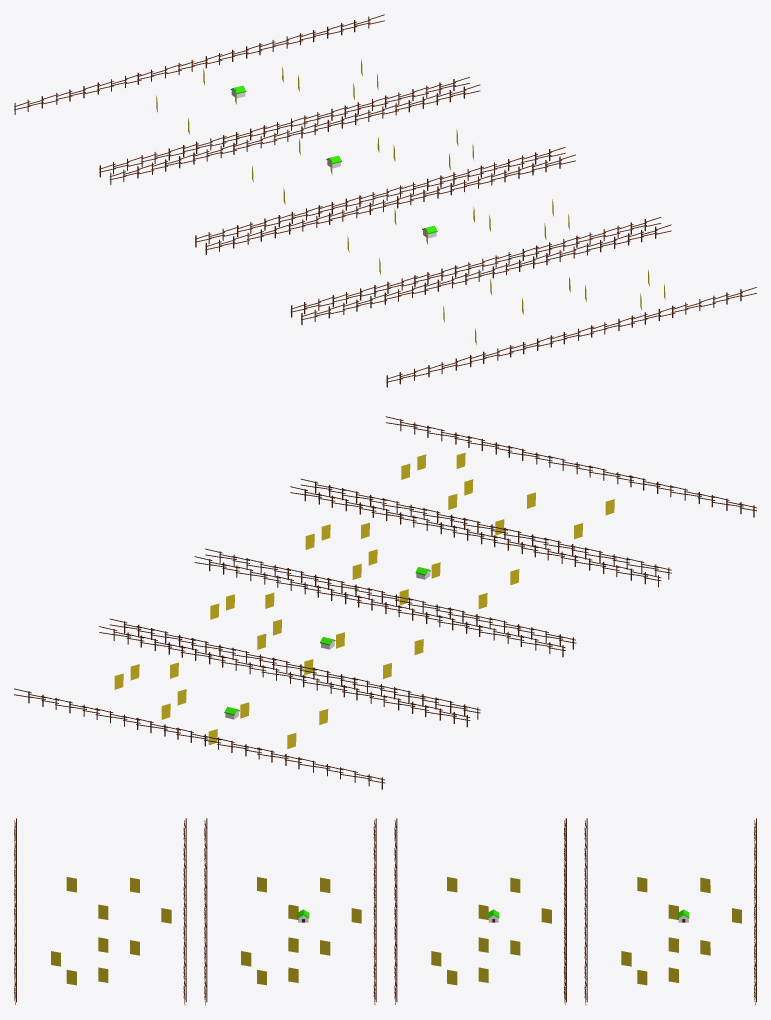
Rendered from farm07.glb.
3 views of the same model, one above another, from view 1: azimuth 30°, elevation 25°; view 2: azimuth 150°, elevation 25°; view 3: azimuth 270°, elevation 25° (orthographic).
Parts seen in each view (by area): view 1: Farm07; view 2: Farm07; view 3: Farm07.
Part boxes in pixels (x1,y1,x2,y2): Farm07: (14, 14, 756, 387); Farm07: (14, 416, 756, 789); Farm07: (14, 818, 756, 1005).
Bounding box in the file's own units: 17.92 × 0.8765 × 31.26.
